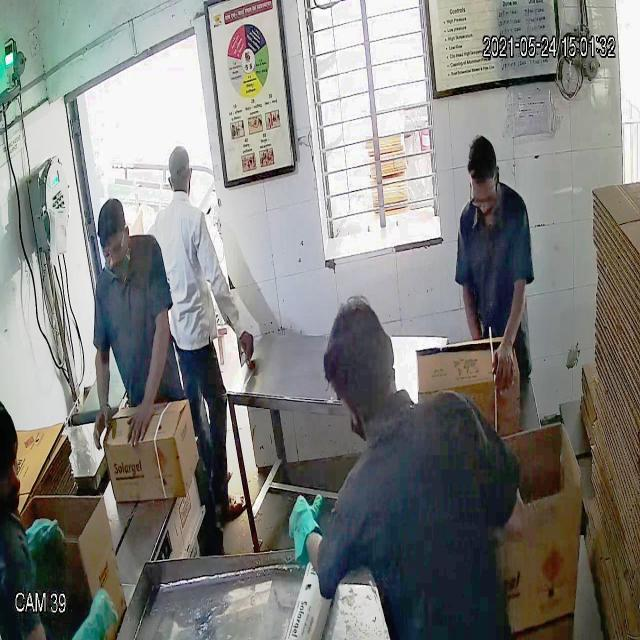glasses: (97, 233, 131, 265), (468, 182, 502, 214)
